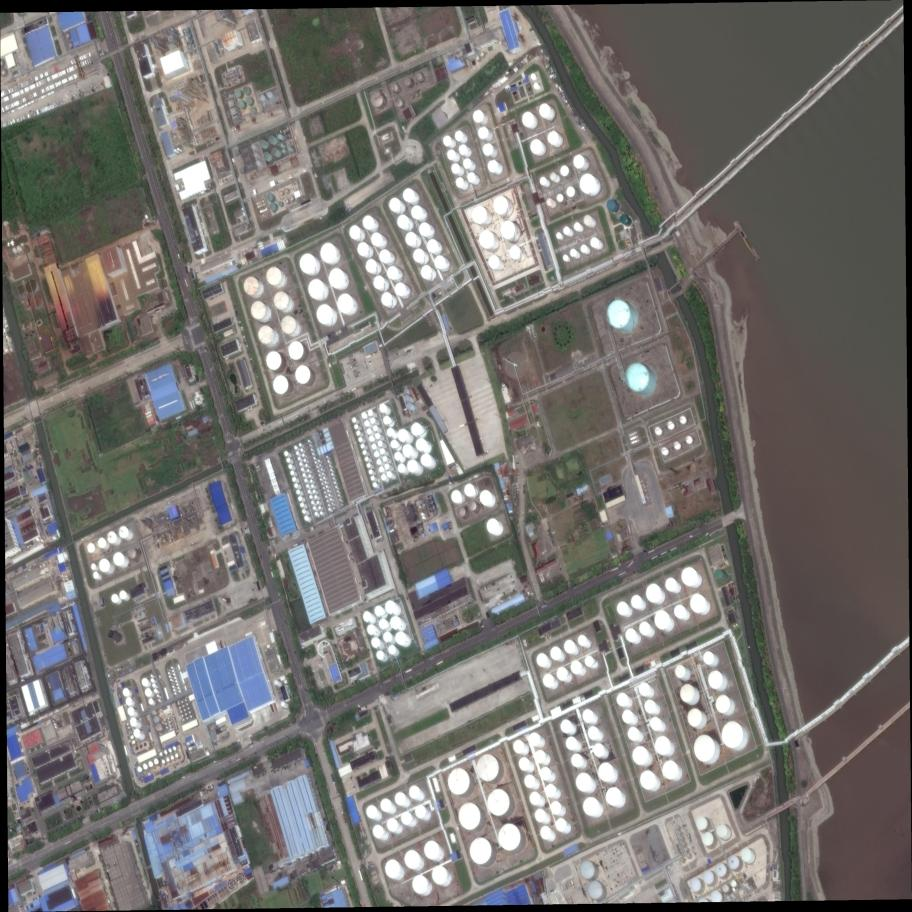storage-tank: (607, 300, 631, 328), (626, 363, 649, 392), (469, 837, 492, 865), (458, 802, 481, 830), (498, 824, 521, 851), (487, 789, 510, 816), (448, 767, 470, 795), (477, 754, 499, 782), (721, 721, 743, 748), (694, 735, 715, 762), (308, 279, 325, 300), (579, 173, 596, 194), (299, 254, 316, 274), (328, 268, 345, 288), (681, 567, 698, 587), (320, 243, 336, 264), (317, 304, 333, 325), (266, 351, 282, 371), (576, 772, 592, 792), (258, 326, 274, 345), (273, 376, 289, 395), (583, 797, 599, 816), (479, 230, 495, 249), (598, 763, 614, 782), (655, 736, 671, 755), (662, 761, 678, 780), (606, 787, 622, 806), (632, 746, 648, 765), (288, 341, 304, 360), (274, 291, 289, 311), (338, 294, 353, 314), (646, 583, 661, 603), (243, 277, 259, 295), (266, 267, 282, 285), (587, 881, 603, 899), (640, 771, 656, 789), (295, 366, 311, 384), (251, 301, 266, 320), (501, 221, 516, 240), (680, 684, 695, 703), (708, 670, 723, 689), (655, 611, 670, 630), (580, 860, 595, 879), (385, 859, 400, 878), (281, 316, 296, 335), (405, 850, 420, 869), (424, 841, 439, 860), (493, 197, 509, 214), (691, 595, 706, 613), (432, 866, 447, 884), (688, 708, 702, 727), (716, 695, 730, 713), (473, 206, 487, 224), (413, 876, 427, 894), (370, 91, 384, 107), (479, 490, 492, 506), (487, 518, 499, 534), (530, 140, 543, 154), (379, 249, 391, 264), (381, 292, 393, 307), (349, 225, 361, 240), (30, 295, 42, 310), (524, 774, 536, 789), (593, 743, 605, 758), (522, 112, 534, 127), (617, 601, 629, 616), (373, 276, 385, 290), (371, 233, 383, 247), (99, 559, 111, 573), (113, 552, 125, 566), (529, 733, 541, 747), (539, 767, 551, 781), (555, 818, 567, 832), (560, 720, 572, 734), (539, 104, 551, 118), (547, 131, 559, 145), (573, 155, 585, 169), (702, 832, 714, 846), (715, 863, 727, 877), (674, 605, 686, 619), (650, 717, 662, 731), (665, 578, 677, 592), (397, 215, 409, 229), (380, 799, 392, 813), (405, 232, 417, 246), (413, 249, 425, 263), (403, 188, 415, 202), (411, 205, 423, 219), (518, 757, 530, 771), (395, 282, 406, 297), (358, 242, 369, 257), (363, 215, 374, 230), (489, 255, 500, 270), (703, 870, 714, 885), (373, 824, 384, 839), (435, 255, 446, 270), (696, 817, 708, 830), (644, 700, 656, 713), (401, 812, 413, 825), (415, 439, 427, 452), (419, 223, 431, 236), (411, 423, 423, 436), (387, 266, 398, 280), (366, 259, 377, 273), (741, 848, 752, 862), (535, 809, 546, 823), (537, 653, 548, 667), (543, 674, 554, 688), (557, 667, 568, 681), (571, 661, 582, 675), (535, 750, 546, 764), (545, 784, 556, 798), (550, 801, 561, 815), (566, 737, 577, 751), (583, 709, 594, 723), (510, 245, 521, 259), (588, 726, 599, 740), (717, 824, 728, 838), (690, 878, 701, 892), (728, 855, 739, 869), (617, 693, 628, 707), (639, 682, 650, 696), (622, 710, 633, 724), (628, 727, 639, 741), (626, 628, 637, 642), (639, 622, 650, 636), (631, 595, 642, 609), (395, 792, 406, 806), (387, 818, 398, 832), (390, 616, 401, 630), (395, 631, 406, 645), (421, 265, 432, 279), (513, 740, 524, 754), (451, 490, 462, 504), (390, 197, 400, 212), (26, 280, 37, 293), (550, 647, 561, 660), (564, 640, 575, 653), (571, 754, 582, 767), (675, 665, 686, 678), (703, 652, 714, 665), (385, 601, 396, 614), (421, 454, 432, 467), (427, 240, 438, 253), (473, 110, 484, 123), (478, 127, 489, 140), (409, 786, 420, 799), (415, 805, 426, 818), (530, 792, 540, 806), (541, 826, 551, 840), (711, 890, 722, 902), (464, 484, 475, 496), (407, 460, 418, 472), (119, 526, 129, 539), (398, 429, 408, 442), (403, 445, 413, 458), (367, 805, 377, 818), (483, 143, 493, 156), (488, 160, 498, 173), (107, 531, 117, 543), (371, 637, 381, 649), (560, 165, 569, 177), (607, 199, 616, 211), (443, 135, 452, 147), (455, 130, 464, 142), (451, 163, 460, 175), (459, 144, 468, 156), (585, 656, 594, 667), (578, 635, 587, 646), (590, 237, 599, 248), (375, 606, 384, 617), (383, 632, 392, 643), (447, 149, 456, 160), (463, 158, 472, 169), (467, 172, 476, 183), (454, 48, 463, 59), (468, 500, 477, 511), (584, 214, 592, 226), (566, 187, 575, 197), (379, 619, 388, 629), (457, 507, 466, 517), (98, 537, 106, 548), (367, 624, 375, 635), (363, 611, 371, 622), (456, 177, 464, 188), (404, 77, 412, 87), (87, 543, 95, 553), (128, 548, 136, 558), (119, 590, 127, 600), (715, 569, 723, 579), (620, 214, 628, 224), (111, 594, 119, 603), (661, 447, 669, 456), (390, 440, 398, 449), (394, 451, 402, 460), (376, 651, 384, 660), (388, 645, 396, 654), (383, 416, 391, 425), (379, 404, 387, 413), (415, 73, 423, 82), (398, 463, 405, 473), (556, 194, 564, 202), (667, 422, 675, 430), (391, 83, 398, 92), (395, 98, 402, 107), (145, 688, 152, 697), (128, 707, 135, 716), (268, 136, 275, 145), (574, 222, 581, 231), (540, 177, 547, 186), (547, 198, 554, 207), (563, 226, 570, 235), (722, 884, 729, 893), (674, 442, 681, 451), (686, 436, 693, 445), (387, 428, 394, 437), (155, 723, 162, 731), (142, 678, 149, 686), (123, 688, 130, 696), (130, 718, 137, 726), (133, 729, 140, 737), (235, 90, 242, 98), (263, 152, 270, 160), (406, 402, 413, 410), (550, 173, 557, 181), (570, 249, 577, 257), (680, 416, 687, 424), (246, 96, 252, 105), (655, 426, 661, 435), (125, 698, 132, 705), (1, 69, 7, 77), (65, 32, 71, 40), (238, 100, 244, 108), (260, 139, 266, 147), (272, 148, 278, 156), (267, 193, 273, 201), (270, 203, 276, 211), (581, 245, 587, 253), (556, 232, 562, 240), (563, 254, 569, 262), (148, 698, 154, 705), (154, 716, 160, 723), (67, 42, 73, 49), (93, 572, 99, 579), (108, 630, 114, 637), (243, 87, 249, 94), (267, 91, 273, 98), (530, 73, 536, 80), (533, 83, 539, 90), (731, 880, 737, 887), (364, 420, 370, 427), (0, 59, 5, 67), (361, 413, 367, 419), (377, 441, 383, 447), (148, 760, 153, 767), (154, 758, 159, 765), (91, 563, 96, 570), (251, 107, 256, 114), (260, 94, 265, 101), (251, 144, 256, 151), (368, 410, 373, 417), (367, 428, 372, 435), (375, 433, 380, 440), (374, 451, 379, 458), (380, 448, 385, 455), (382, 455, 387, 462), (379, 466, 384, 473), (385, 463, 390, 470), (381, 474, 386, 481), (387, 471, 392, 478), (280, 701, 285, 707), (137, 766, 142, 772), (143, 764, 148, 770), (152, 710, 157, 716), (163, 749, 168, 755), (277, 133, 282, 139), (404, 388, 409, 394), (404, 395, 409, 401), (370, 418, 375, 424), (373, 425, 378, 431), (369, 436, 374, 442), (376, 459, 381, 465), (475, 55, 480, 61), (286, 458, 291, 463), (356, 431, 361, 436), (358, 437, 363, 442), (371, 444, 376, 449), (298, 496, 302, 502), (284, 451, 288, 457), (290, 470, 294, 476), (304, 516, 308, 522), (274, 679, 278, 685), (289, 196, 293, 202), (352, 417, 356, 423), (256, 160, 260, 166), (254, 152, 258, 158), (279, 201, 283, 207), (354, 424, 358, 430), (480, 51, 484, 57), (373, 482, 377, 488), (336, 151, 340, 157), (289, 464, 293, 469), (292, 477, 296, 482), (294, 483, 298, 488), (296, 490, 300, 495), (300, 503, 304, 508), (302, 509, 306, 514), (285, 198, 289, 203), (159, 752, 163, 757), (161, 759, 165, 764), (166, 757, 170, 762), (152, 683, 156, 688), (154, 689, 158, 694), (168, 748, 172, 753), (280, 143, 284, 148), (282, 149, 286, 154), (185, 28, 189, 33), (187, 34, 191, 39), (189, 40, 193, 45), (684, 847, 688, 852), (361, 444, 365, 449), (330, 154, 334, 159), (363, 450, 367, 455), (364, 457, 369, 461), (367, 463, 371, 468), (369, 470, 373, 475), (371, 476, 375, 481), (415, 92, 419, 97), (342, 149, 346, 154), (429, 500, 433, 505), (309, 495, 313, 499), (280, 191, 284, 195), (150, 678, 154, 682), (130, 735, 134, 739), (325, 157, 329, 161), (427, 495, 431, 499), (313, 506, 316, 511), (285, 188, 288, 193), (311, 500, 314, 505), (314, 495, 317, 500), (144, 742, 147, 747), (132, 740, 135, 745), (129, 730, 132, 735), (139, 612, 142, 617), (171, 755, 174, 760), (175, 753, 178, 758), (173, 746, 176, 751), (682, 841, 685, 846), (676, 825, 679, 830), (687, 853, 690, 858), (680, 857, 683, 862), (410, 94, 413, 99), (431, 505, 434, 510), (296, 451, 299, 455), (298, 457, 301, 461), (299, 462, 302, 466), (301, 467, 304, 471), (304, 479, 307, 483), (306, 484, 309, 488), (307, 490, 311, 493), (180, 513, 183, 517), (299, 443, 302, 447), (300, 448, 303, 452), (302, 453, 305, 457), (303, 459, 306, 463), (308, 474, 311, 478), (310, 479, 313, 483), (311, 484, 314, 488), (316, 501, 319, 505), (318, 506, 321, 510), (320, 511, 323, 515), (136, 746, 139, 750), (150, 674, 153, 678), (166, 726, 169, 730), (135, 614, 138, 618), (213, 42, 216, 46), (190, 715, 193, 719), (678, 831, 681, 835), (680, 836, 683, 840), (421, 512, 424, 516), (432, 510, 435, 514), (294, 446, 297, 449), (328, 508, 331, 511), (319, 464, 322, 467), (320, 468, 323, 471), (324, 481, 327, 484), (328, 494, 331, 497), (335, 486, 338, 489), (336, 490, 339, 493), (339, 499, 342, 502), (305, 464, 308, 467), (312, 490, 315, 493), (310, 448, 313, 451), (318, 474, 321, 477), (322, 487, 325, 490), (214, 46, 217, 49), (140, 745, 143, 748), (128, 726, 131, 729), (170, 725, 173, 728), (186, 717, 189, 720), (187, 707, 190, 710), (186, 703, 189, 706), (422, 516, 425, 519), (303, 473, 305, 477), (315, 512, 317, 516), (216, 49, 218, 53), (318, 459, 320, 463), (327, 489, 329, 493), (325, 495, 327, 499), (307, 469, 309, 473), (314, 461, 316, 465), (321, 482, 323, 486), (419, 505, 421, 509), (183, 512, 185, 515), (333, 507, 335, 510), (322, 473, 324, 476), (323, 477, 325, 480), (326, 485, 328, 488), (332, 502, 334, 505), (326, 455, 328, 458), (327, 460, 329, 463), (330, 469, 332, 472), (331, 473, 333, 476), (338, 494, 340, 497), (341, 504, 343, 507), (328, 504, 330, 507), (326, 500, 329, 502), (308, 440, 310, 443), (309, 444, 311, 447), (312, 453, 314, 456), (313, 457, 315, 460), (316, 466, 318, 469), (317, 470, 319, 473), (320, 478, 322, 481), (169, 721, 171, 724), (157, 695, 159, 698), (158, 699, 160, 702), (164, 719, 166, 722), (165, 723, 167, 726), (168, 717, 170, 720), (168, 672, 170, 675), (171, 666, 173, 669), (173, 673, 175, 676), (169, 675, 171, 678), (183, 719, 185, 722), (181, 715, 183, 718), (185, 713, 187, 716), (189, 711, 191, 714), (184, 709, 186, 712), (181, 701, 183, 704), (185, 699, 187, 702), (178, 690, 180, 693), (173, 689, 175, 692), (330, 499, 332, 501), (329, 465, 331, 467), (333, 477, 335, 479), (334, 482, 336, 484), (324, 492, 326, 494), (127, 723, 129, 725), (172, 670, 174, 672), (174, 677, 176, 679), (170, 679, 172, 681), (180, 711, 182, 713), (183, 705, 185, 707), (179, 707, 181, 709), (178, 703, 180, 705), (174, 693, 176, 695), (177, 687, 179, 689), (172, 686, 174, 688), (176, 684, 178, 686), (175, 680, 177, 682)
